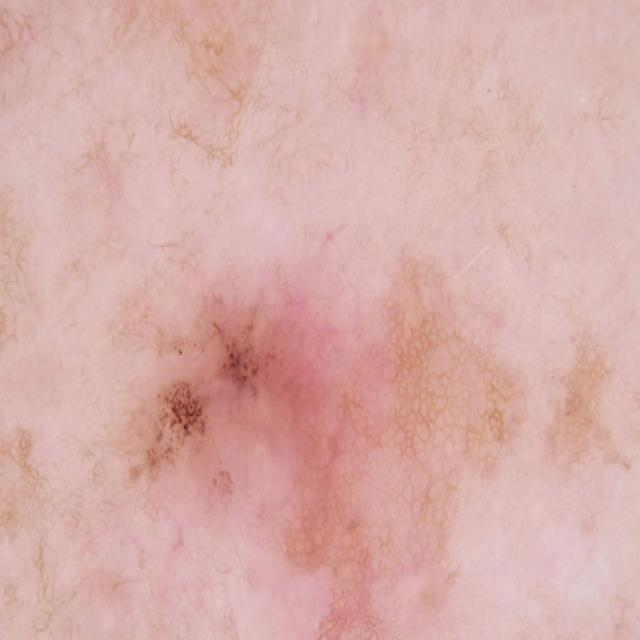Carcinoma: (128, 281, 473, 640)
